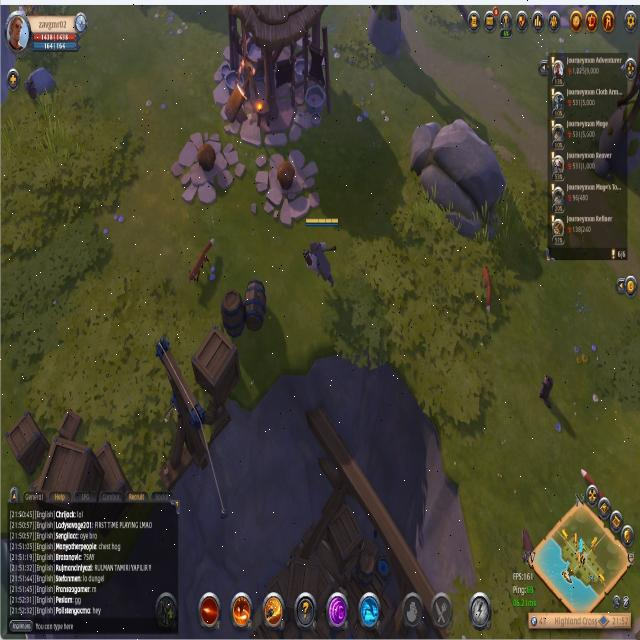stone: (22, 64, 58, 103)
